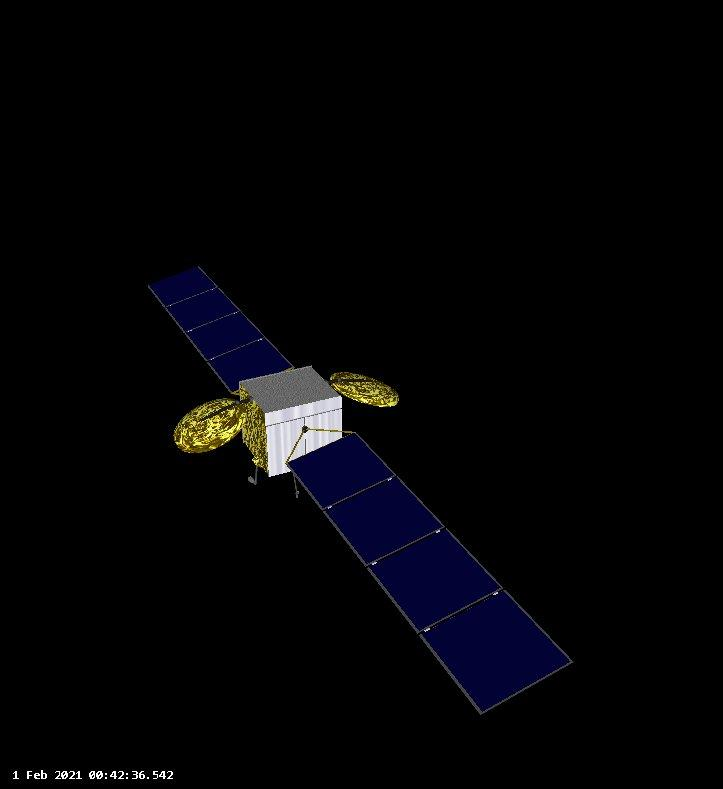antenna: (172, 397, 249, 455), (327, 369, 402, 409)
body: (239, 362, 345, 479)
solar: (284, 430, 576, 718), (144, 262, 296, 396)
